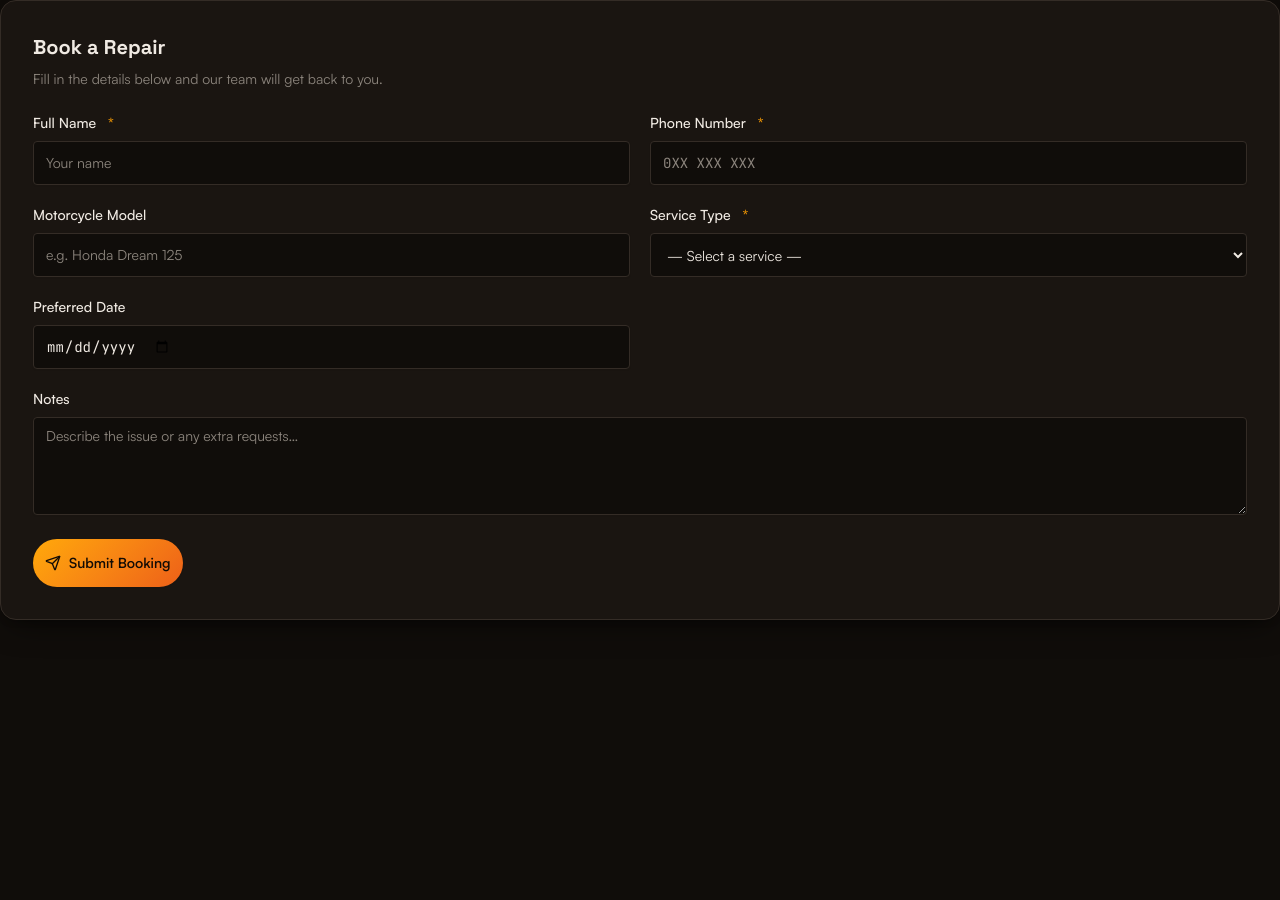
it: BookingForm › rejects a too-short phone number with the format error
The width and height of the screenshot is (1280, 900).
Type "Dara Mao" into the field with test id "booking.name_input" at (332, 163), box [33,141,630,185]
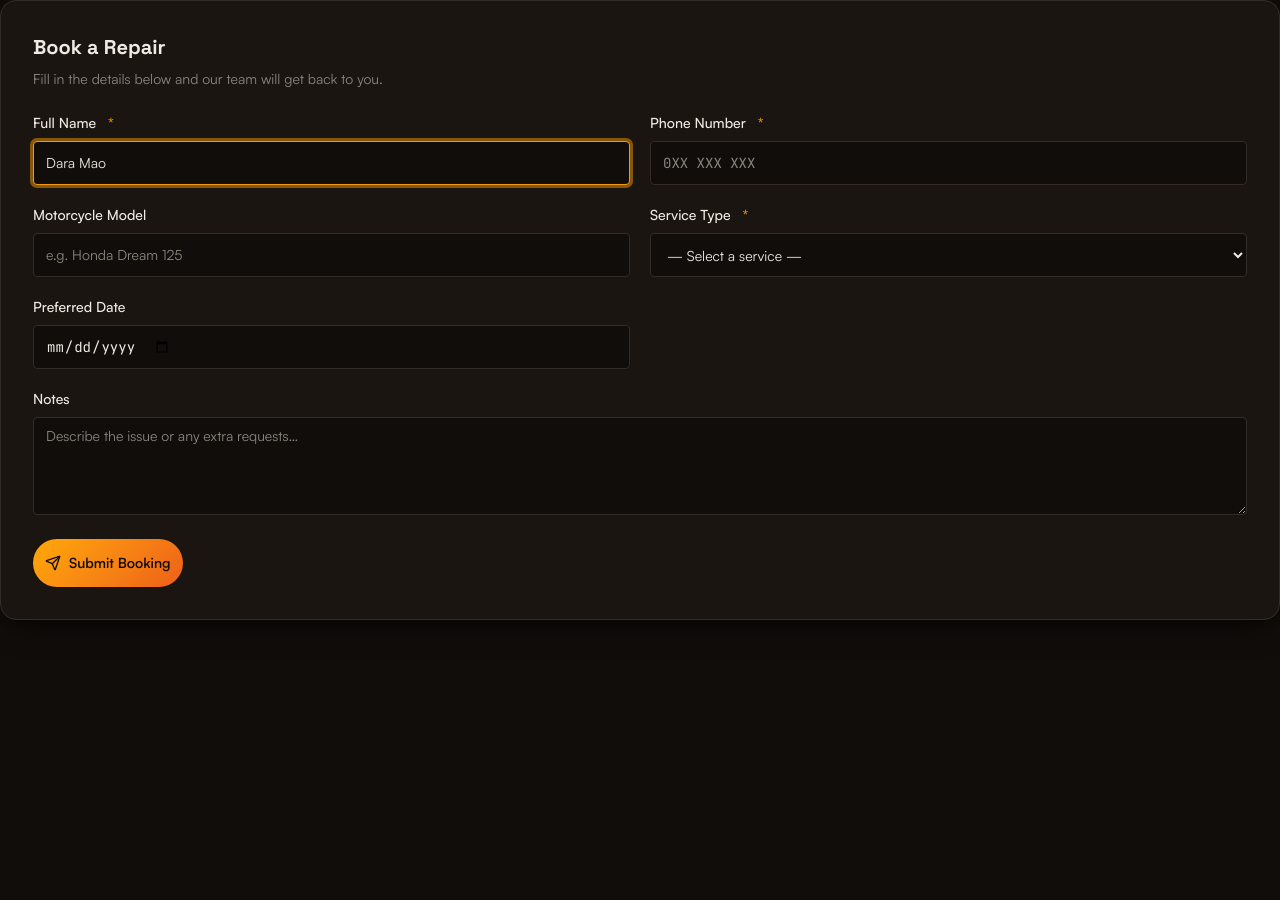
Type "123" into the field with test id "booking.phone_input" at (948, 163), box [650,141,1247,185]
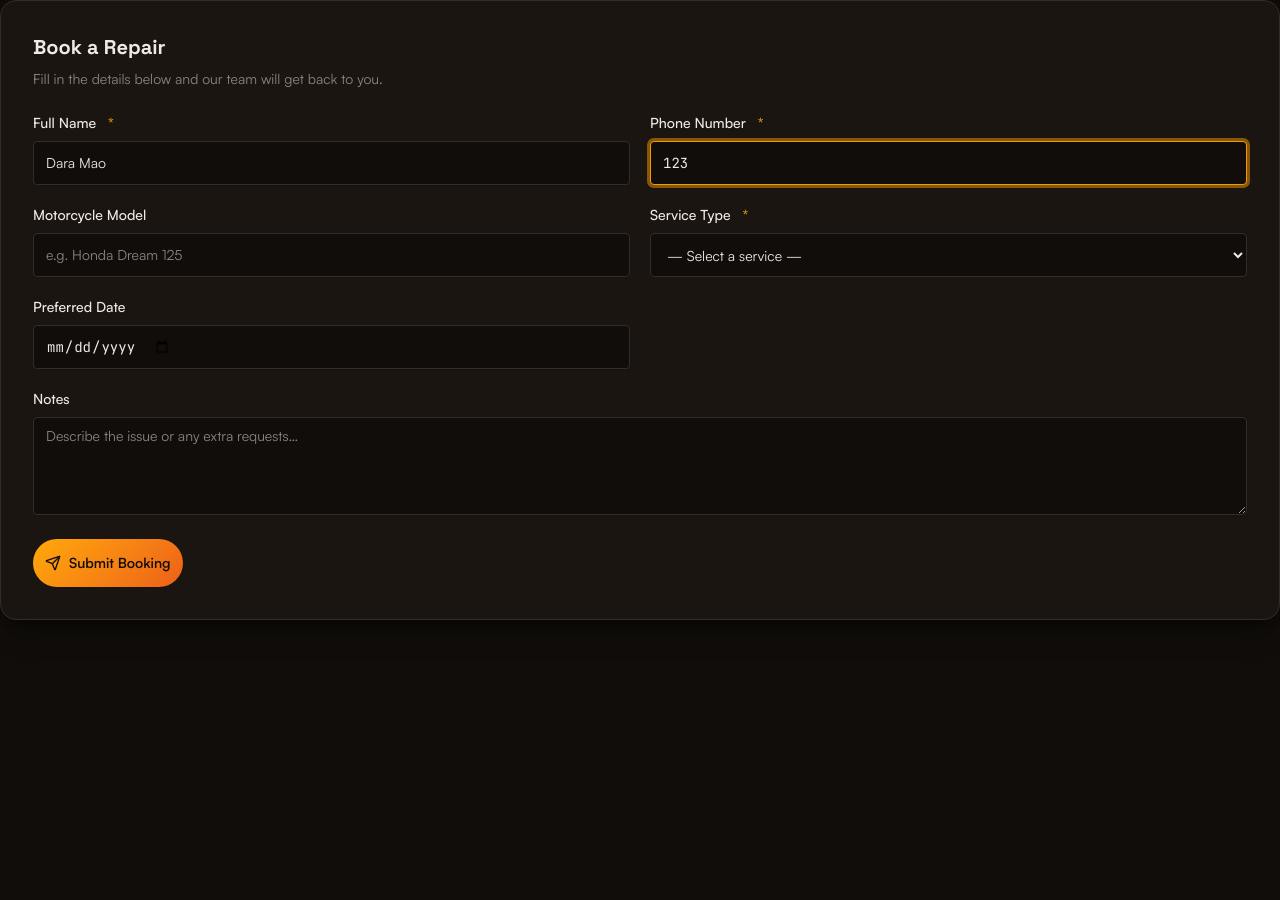
Select "Brake & Suspension" in the dropdown with test id "booking.service_select" at (948, 255), box [650,233,1247,277]
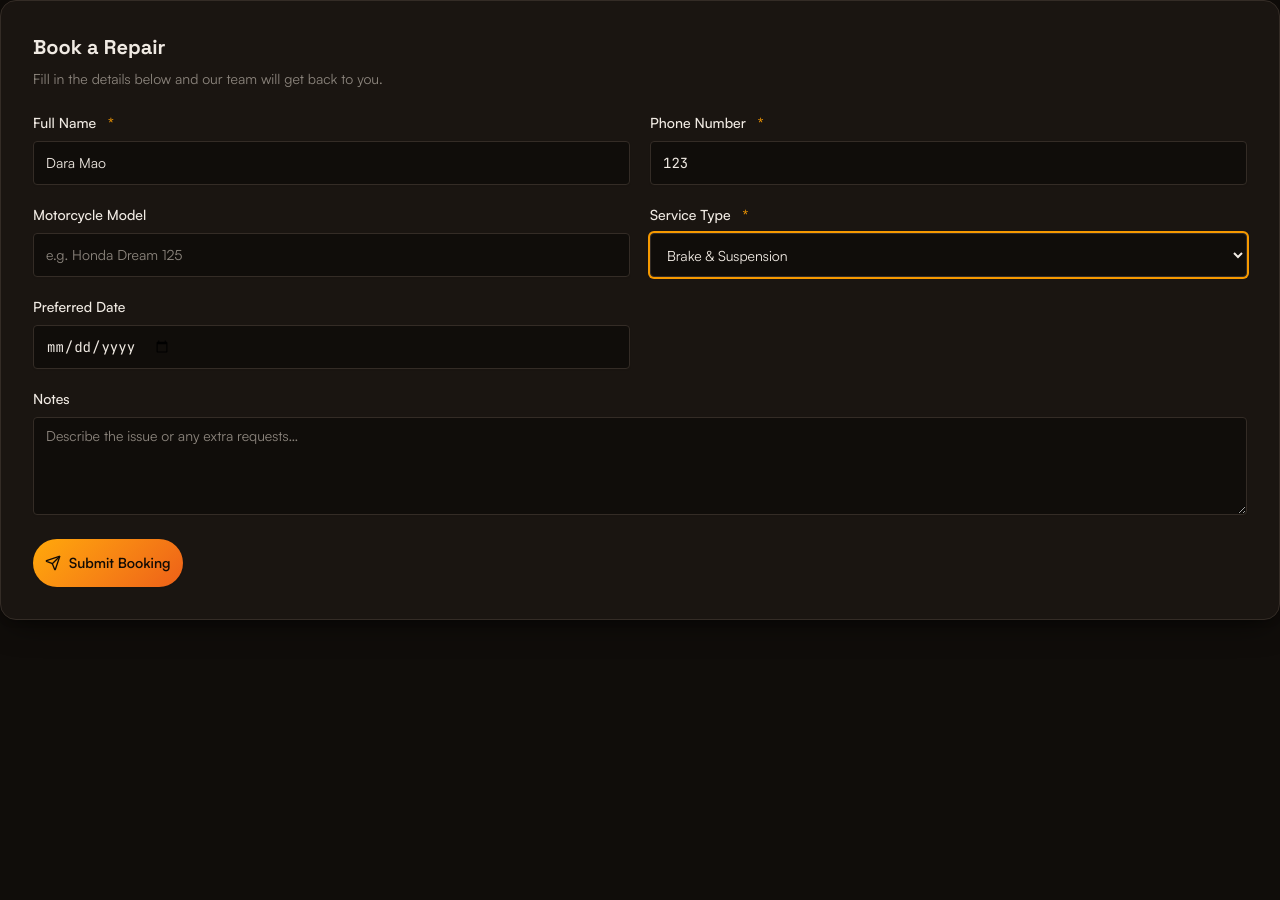
Click the button with test id "booking.submit_button" at (108, 563), box [33,539,182,587]
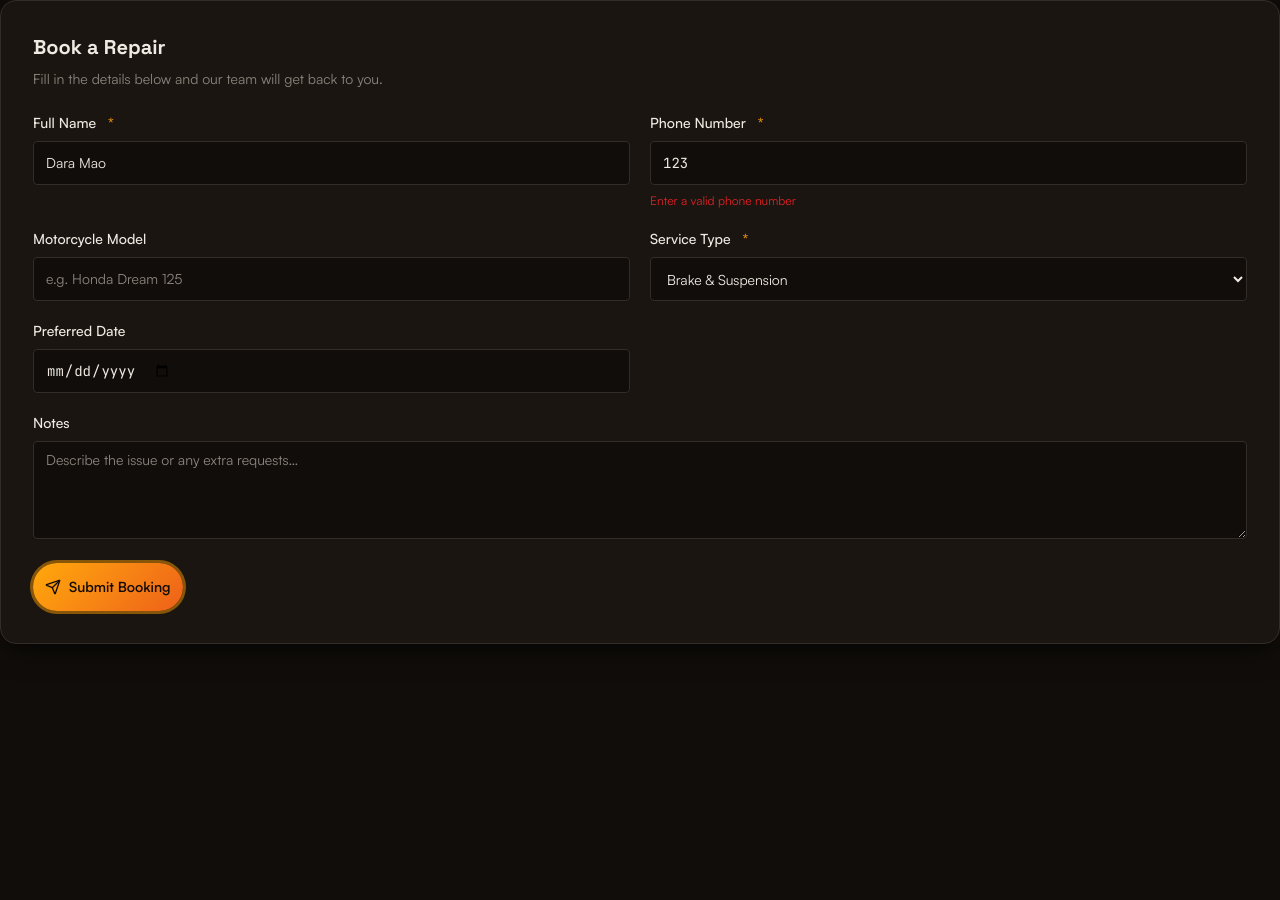
Check: the message with test id "booking.phone_error" reads "Enter a valid phone number", box [650,193,796,208]
